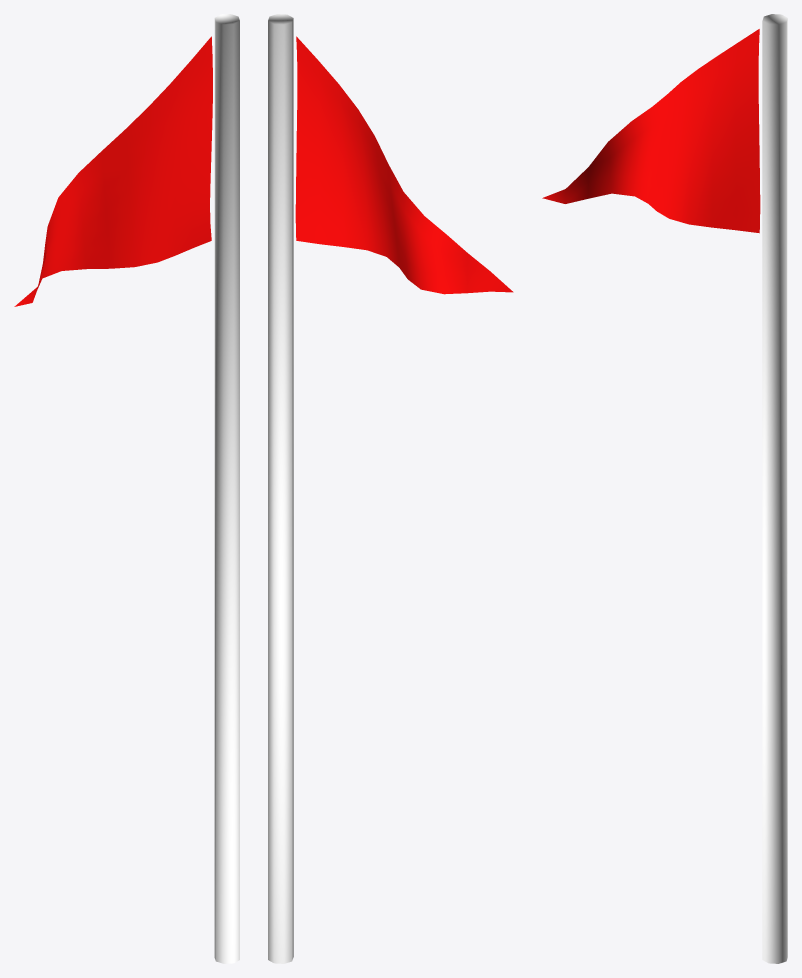
The model's file is flag.obj.
3 views of the same model, side by side, from view 1: azimuth 30°, elevation 25°; view 2: azimuth 150°, elevation 25°; view 3: azimuth 330°, elevation 25° (orthographic).
Visible parts, largest first — view 1: obj1, obj2; view 2: obj1, obj2; view 3: obj1, obj2.
Boxes of the visible parts, bbox=[...] form: obj1: bbox=[214, 14, 239, 963]; obj2: bbox=[14, 36, 212, 306]; obj1: bbox=[268, 14, 293, 963]; obj2: bbox=[295, 36, 513, 294]; obj1: bbox=[762, 14, 787, 963]; obj2: bbox=[542, 29, 760, 233].
Bounding box in the file's own units: 2 × 7.65 × 0.3469.
Materials: 2 (2 with a texture image).
